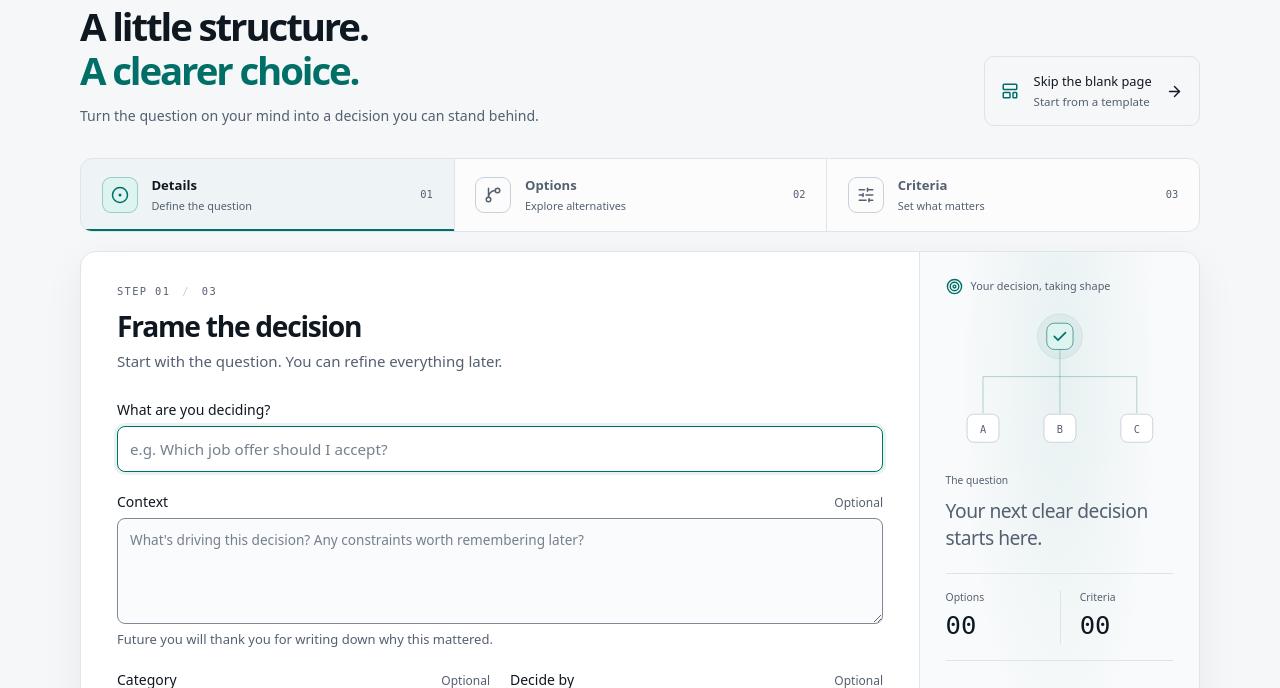
Scenario: preserves details, added options, and unfinished input across wizard navigation
Type "Choose a research tool" into the field labelled "What are you deciding?" at x=500, y=449, box [117,426,883,472]
(page scrolled)
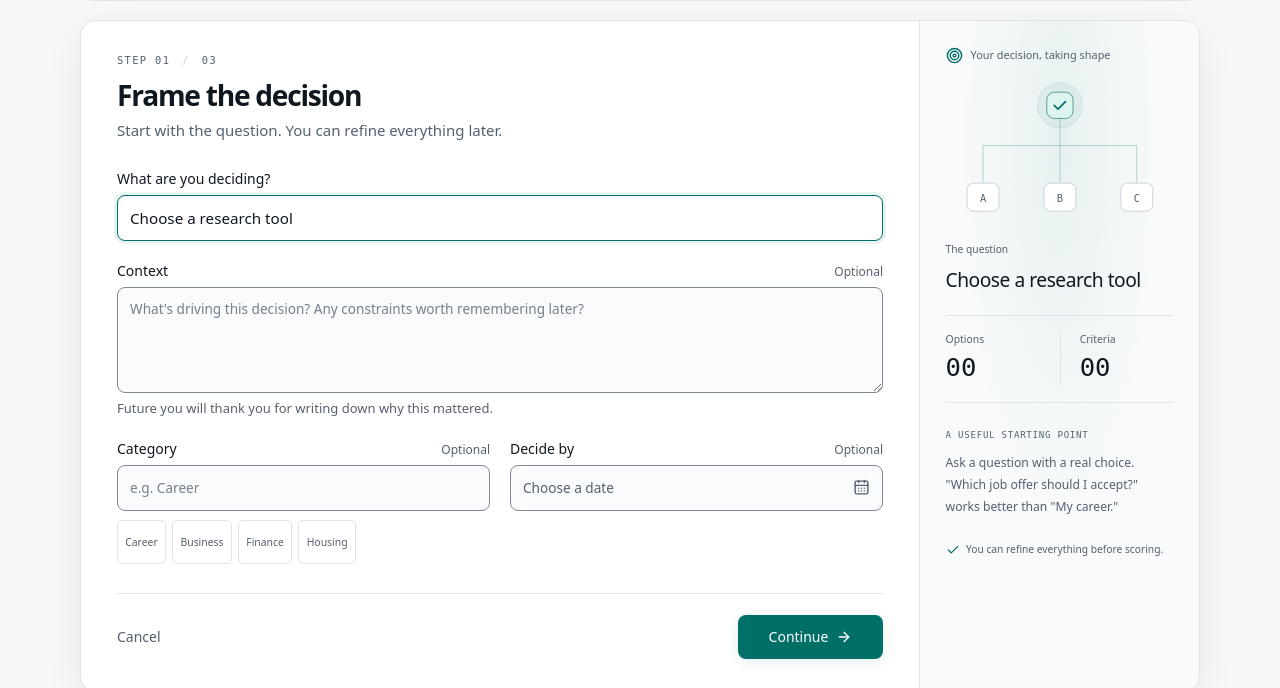
Click the button "Continue" at x=810, y=637, box [738,615,883,659]
(page scrolled)
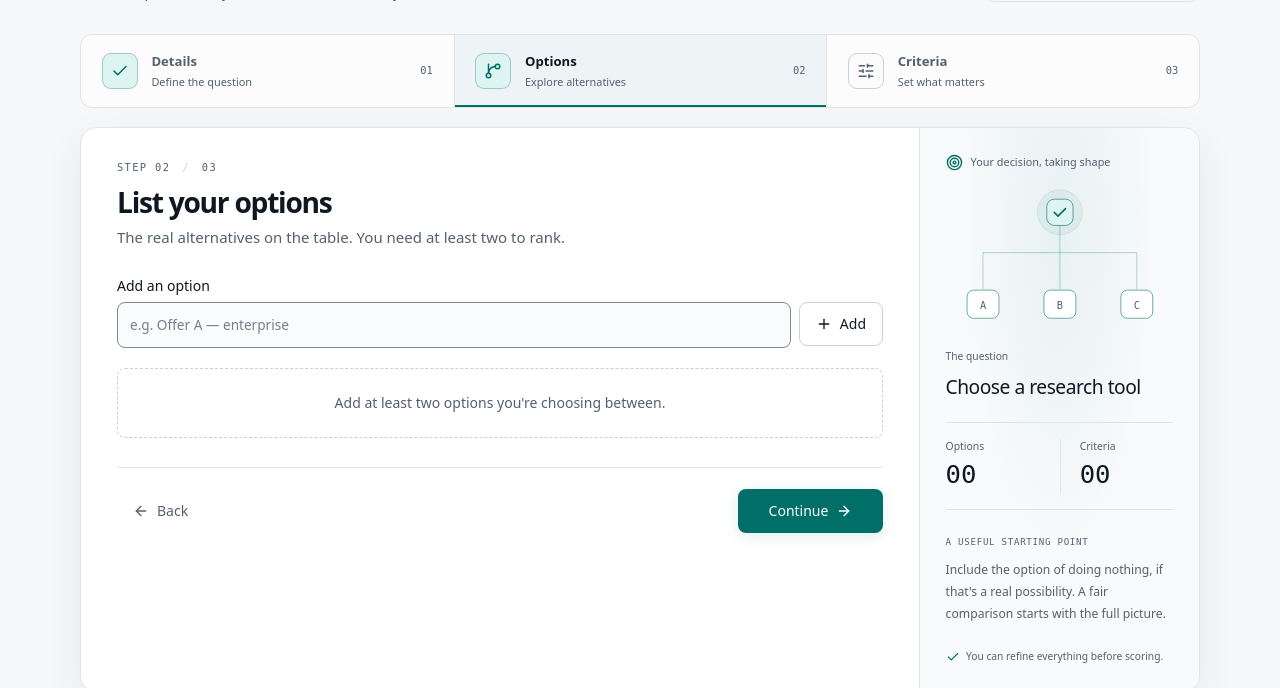
Type "First option" into the field labelled "Add an option" at x=454, y=325, box [117,302,791,348]
Click the button "Add" at x=841, y=324, box [799,302,883,346]
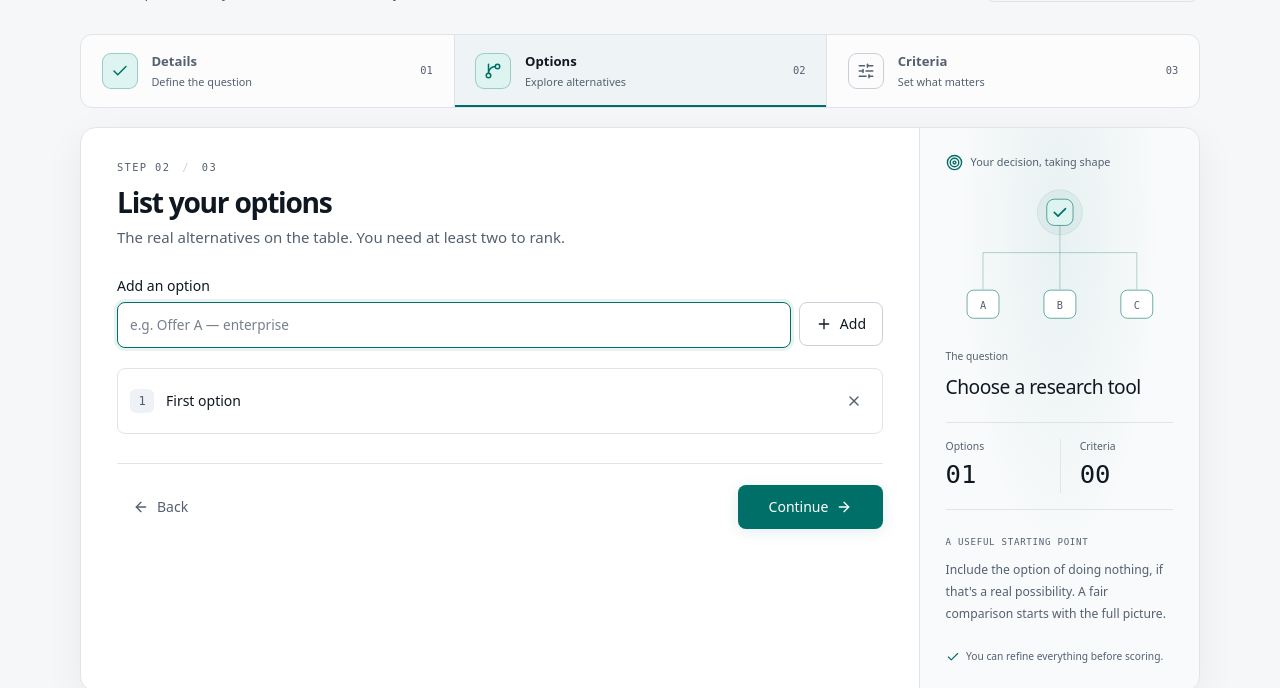
Type "Unfinished option" into the field labelled "Add an option" at x=454, y=325, box [117,302,791,348]
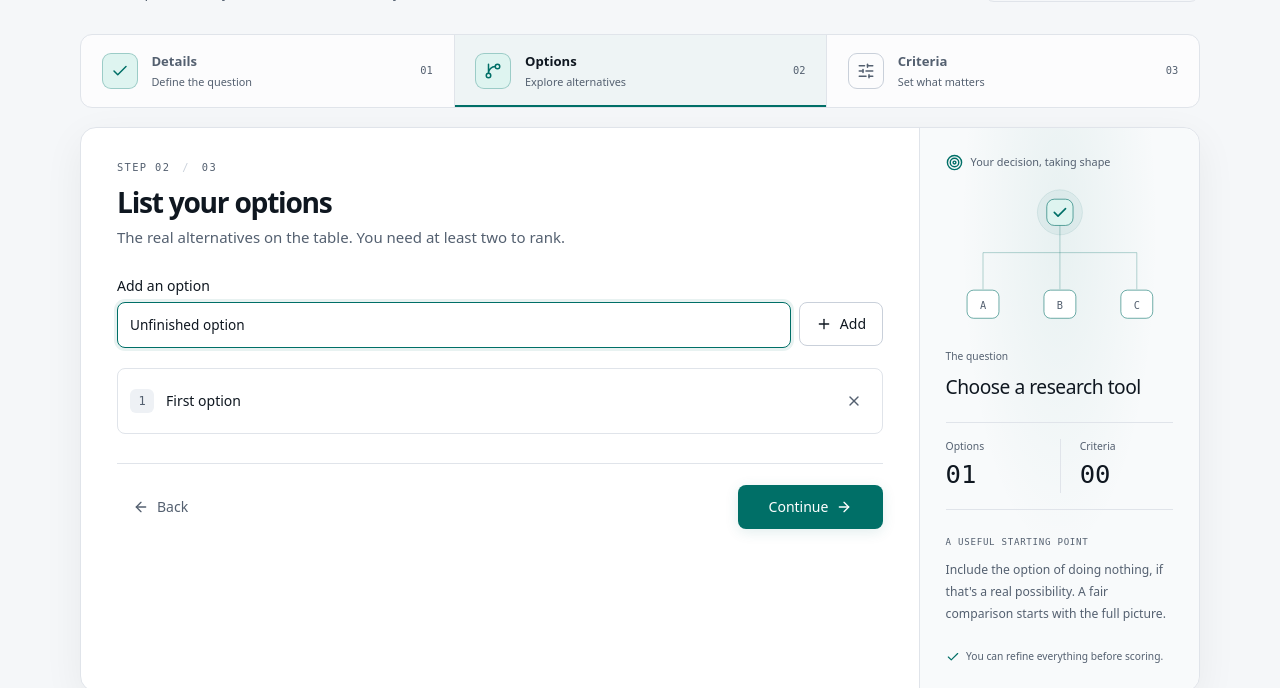
Click the button "Back" at x=161, y=507, box [117,485,204,529]
(page scrolled)
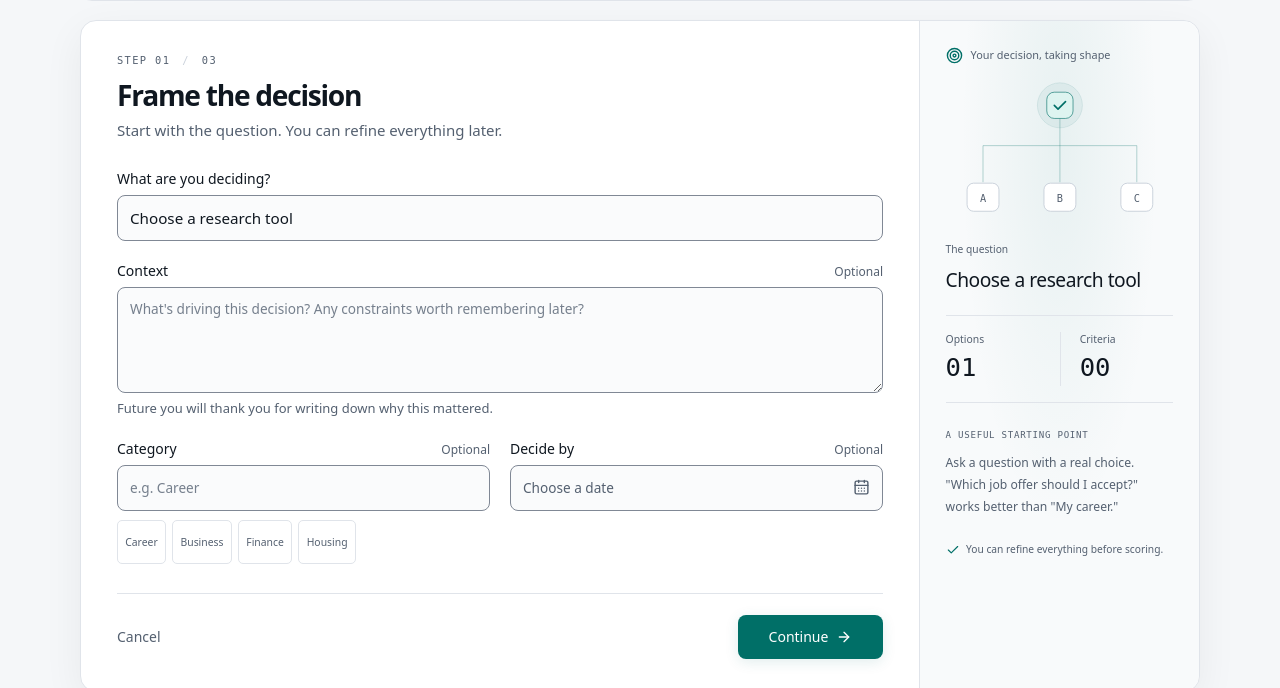
Click the button "Continue" at x=810, y=637, box [738,615,883,659]
(page scrolled)
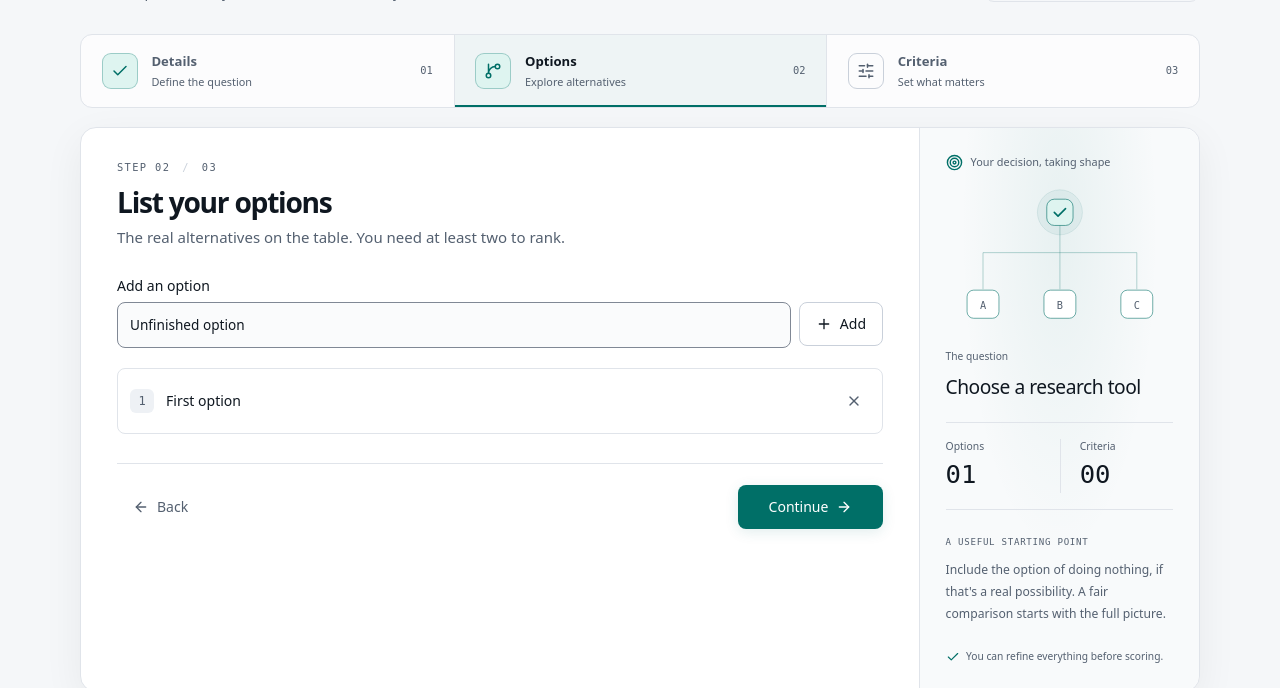
Now the text "First option" is shown, box [166,391,241,410]
